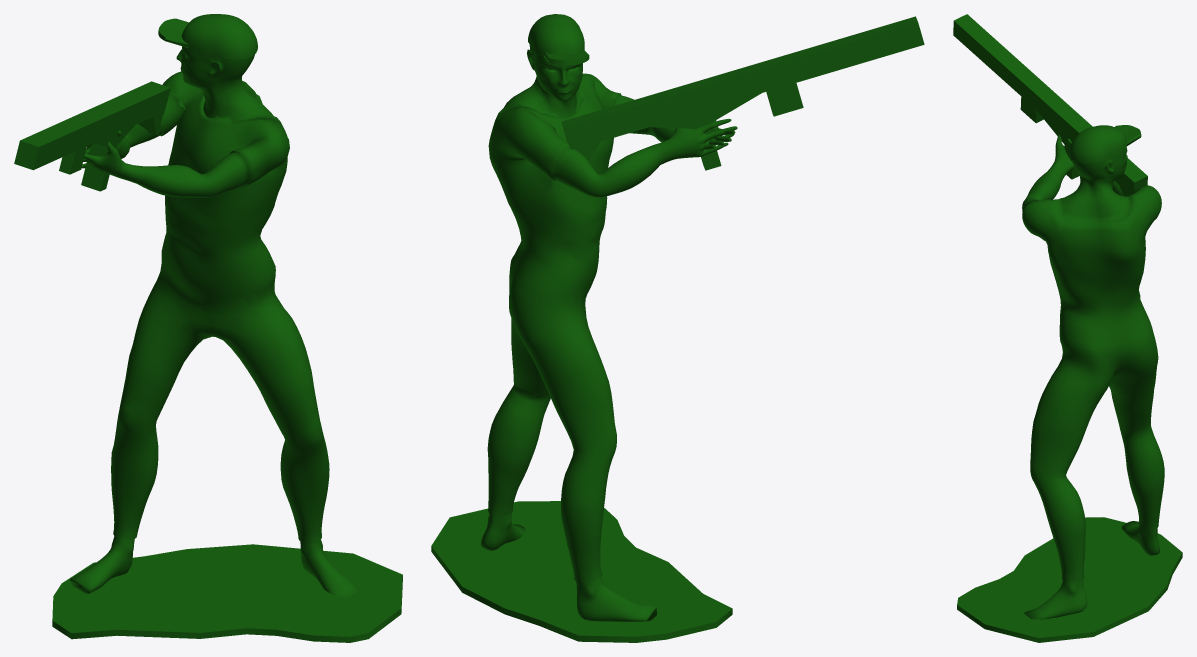
Rendered from Soldado5.fbx.
3 views of the same model, side by side, from view 1: azimuth 30°, elevation 25°; view 2: azimuth 150°, elevation 25°; view 3: azimuth 270°, elevation 25° (orthographic). The views are drawn at different scales.
Parts seen in each view (by area): view 1: OldMan_low.001, Cube.001, Cube; view 2: OldMan_low.001, Cube.001, Cube; view 3: OldMan_low.001, Cube.001, Cube.
Boxes of the visible parts, x1=… form: OldMan_low.001: x1=70, y1=14, x2=358, y2=597; Cube.001: x1=52, y1=544, x2=402, y2=642; Cube: x1=14, y1=81, x2=170, y2=191; OldMan_low.001: x1=481, y1=14, x2=737, y2=621; Cube.001: x1=431, y1=501, x2=732, y2=642; Cube: x1=561, y1=16, x2=924, y2=170; OldMan_low.001: x1=1022, y1=125, x2=1164, y2=619; Cube.001: x1=957, y1=517, x2=1182, y2=642; Cube: x1=953, y1=14, x2=1147, y2=195.
Bounding box in the file's own units: 132 × 169 × 75.42.
